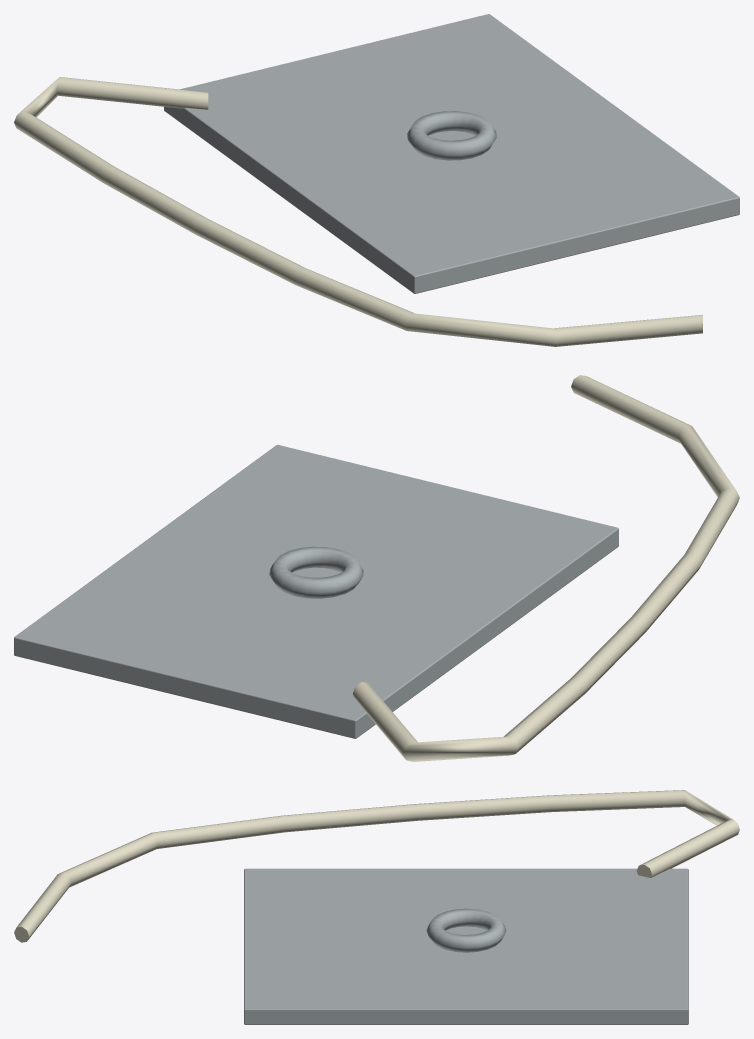
Rendered from extraction-routes-and-objectives-signal-mirror-c7d5ccc7__22132.glb.
3 renders of one model, top to bottom at view 1: azimuth 30°, elevation 25°; view 2: azimuth 150°, elevation 25°; view 3: azimuth 270°, elevation 25°, orthographic. The views are drawn at different scales.
Visible parts, largest first — view 1: signal-mirror; view 2: signal-mirror; view 3: signal-mirror.
Boxes of the visible parts, bbox=[...] form: signal-mirror: bbox=[14, 14, 739, 346]; signal-mirror: bbox=[14, 375, 739, 761]; signal-mirror: bbox=[14, 790, 739, 1024].
Bounding box in the file's own units: 0.1099 × 0.00795 × 0.1632.
